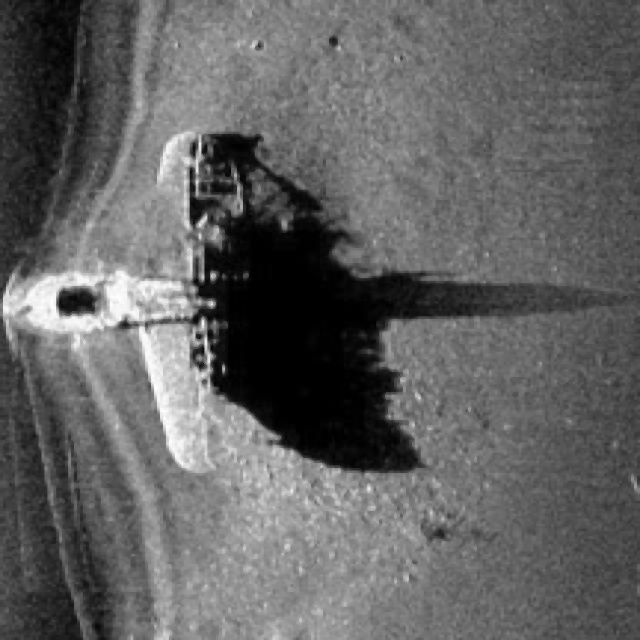Ship: (115, 104, 291, 490)
